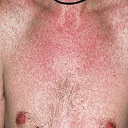Measles: (8, 15, 120, 100)
